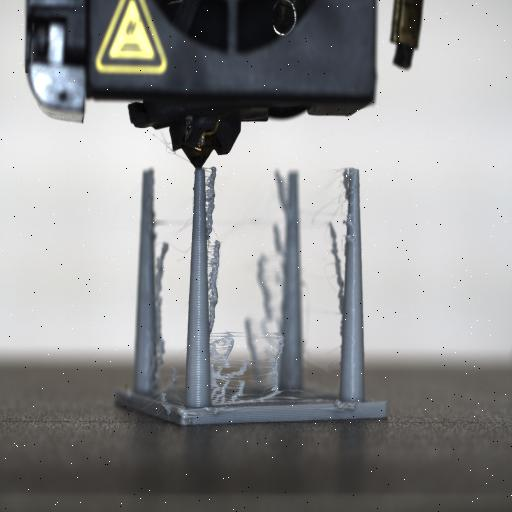stringing: (150, 165, 348, 415)
